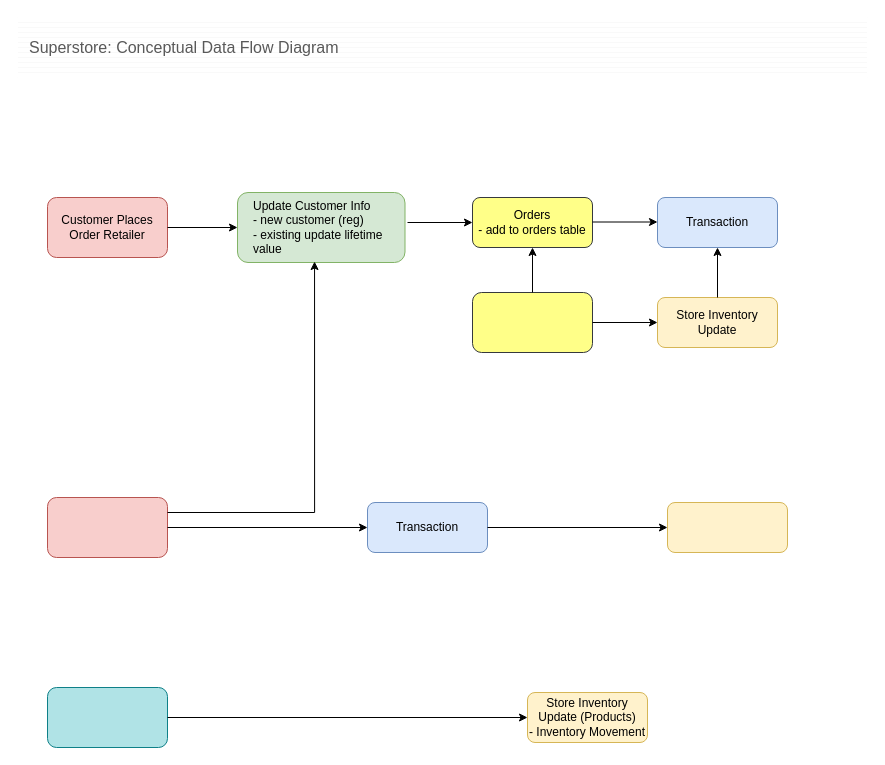
Some shapes in this 885 by 765 pixel diagram are drawn without their labels. Each missing label, with the box of its shape:
Customer Puchases from Store Retailer: (46, 496, 168, 558)
Shipment Updates based Order Priority: (472, 292, 592, 352)
Stock Puchase: (46, 686, 168, 748)
Store Inventory Update (Products): (666, 502, 788, 552)
